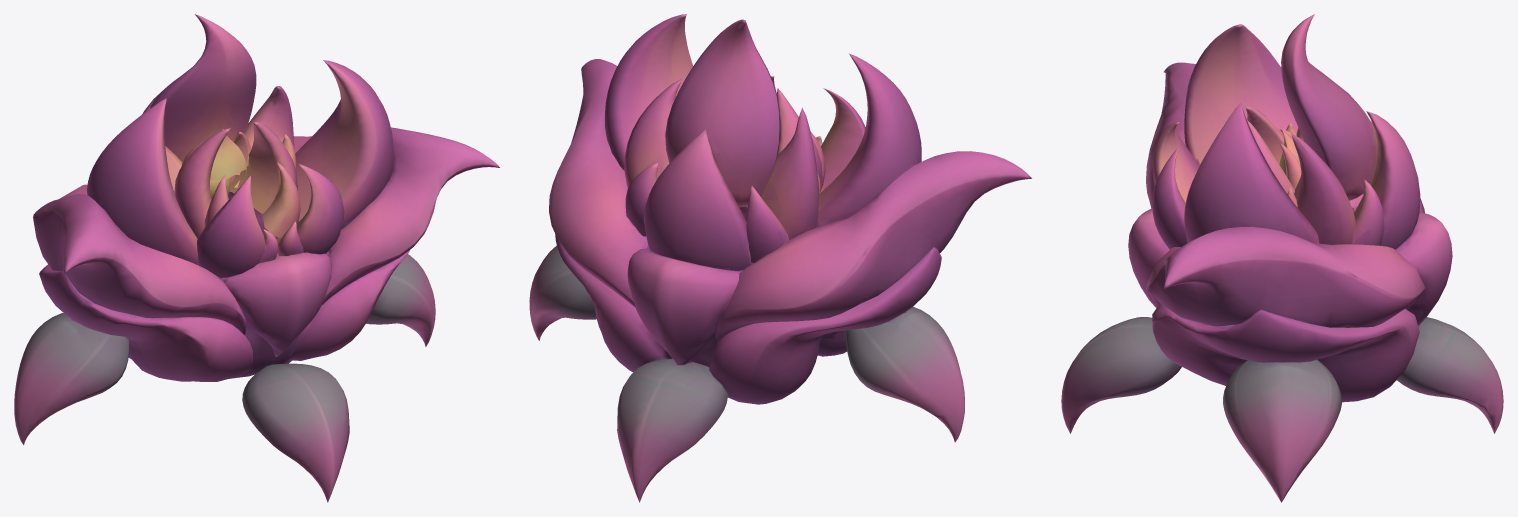
File: enemy-garden-flower.glb
3 renders of one model, left to right at view 1: azimuth 30°, elevation 25°; view 2: azimuth 150°, elevation 25°; view 3: azimuth 270°, elevation 25°, orthographic. The views are drawn at different scales.
Visible parts, largest first — view 1: tripo_node_03a7724b-b2a1-4f37-88b8-97ed7a5e116c; view 2: tripo_node_03a7724b-b2a1-4f37-88b8-97ed7a5e116c; view 3: tripo_node_03a7724b-b2a1-4f37-88b8-97ed7a5e116c.
Boxes of the visible parts, x1,y1,x2,y2 form: tripo_node_03a7724b-b2a1-4f37-88b8-97ed7a5e116c: (14, 14, 499, 502); tripo_node_03a7724b-b2a1-4f37-88b8-97ed7a5e116c: (529, 14, 1031, 502); tripo_node_03a7724b-b2a1-4f37-88b8-97ed7a5e116c: (1061, 14, 1503, 502).
Size of the model in its own units: 0.9995 by 0.8862 by 0.8589.
Materials: 1 (1 with a texture image).
